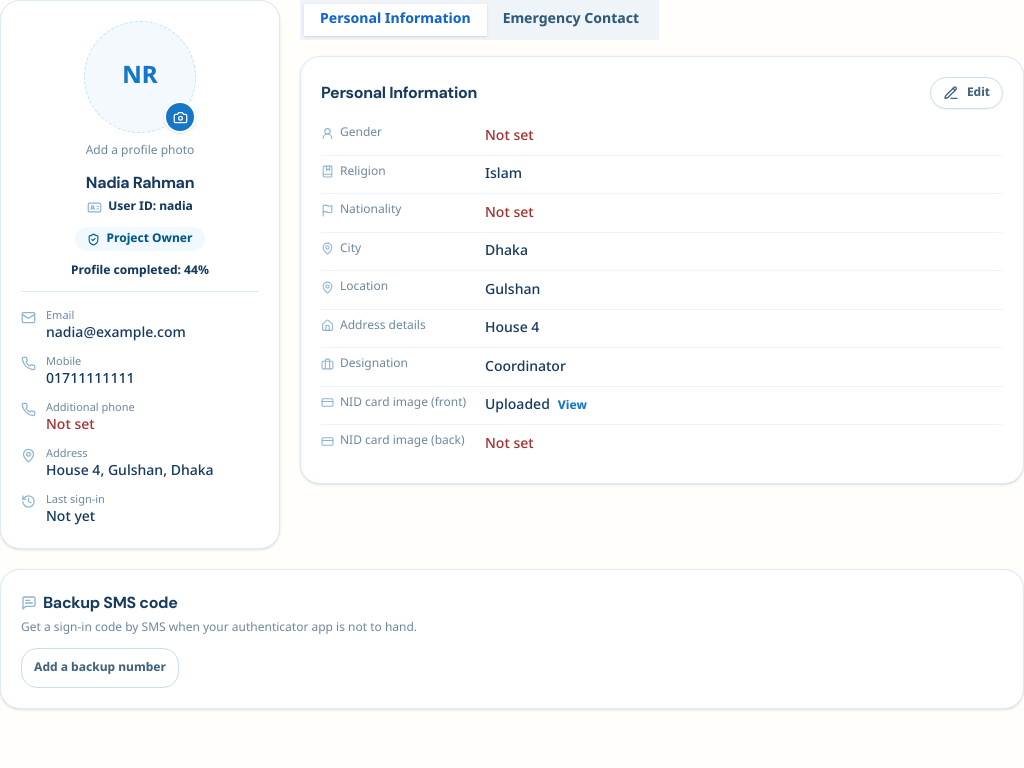
Scenario: an Admin's own profile › will not save a name shorter than two letters
Click the button "Edit" at (966, 93), box [930, 77, 1003, 109]
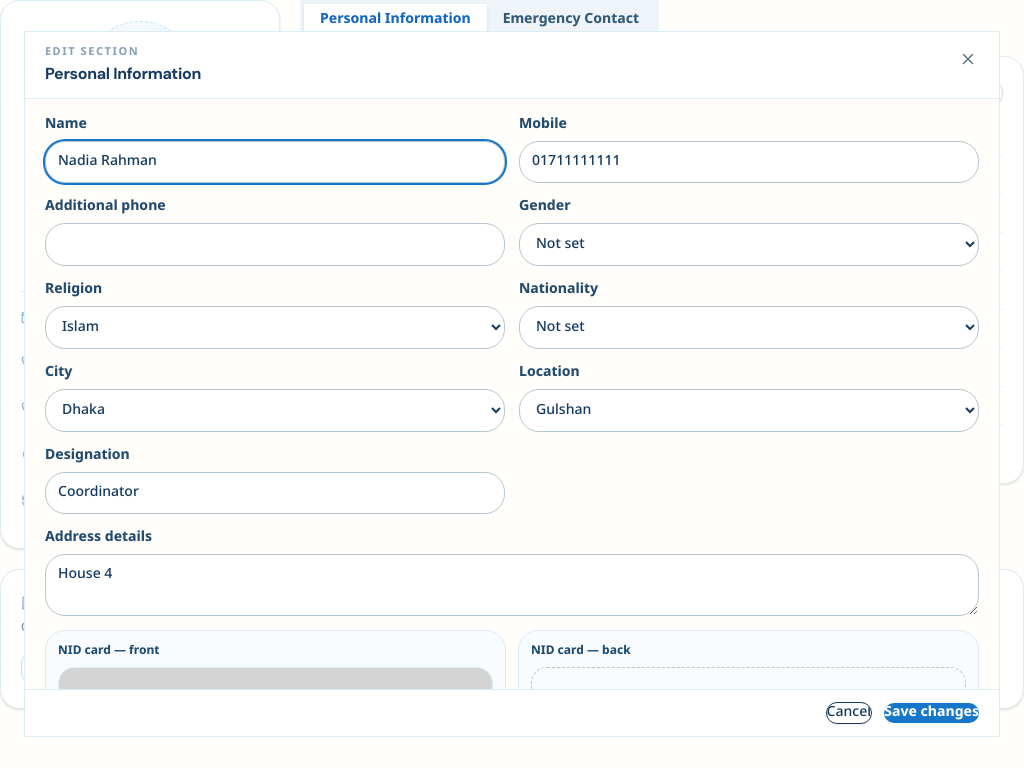
Replace the text in the field labelled "Name" with " N " at (275, 162), box [45, 141, 505, 183]
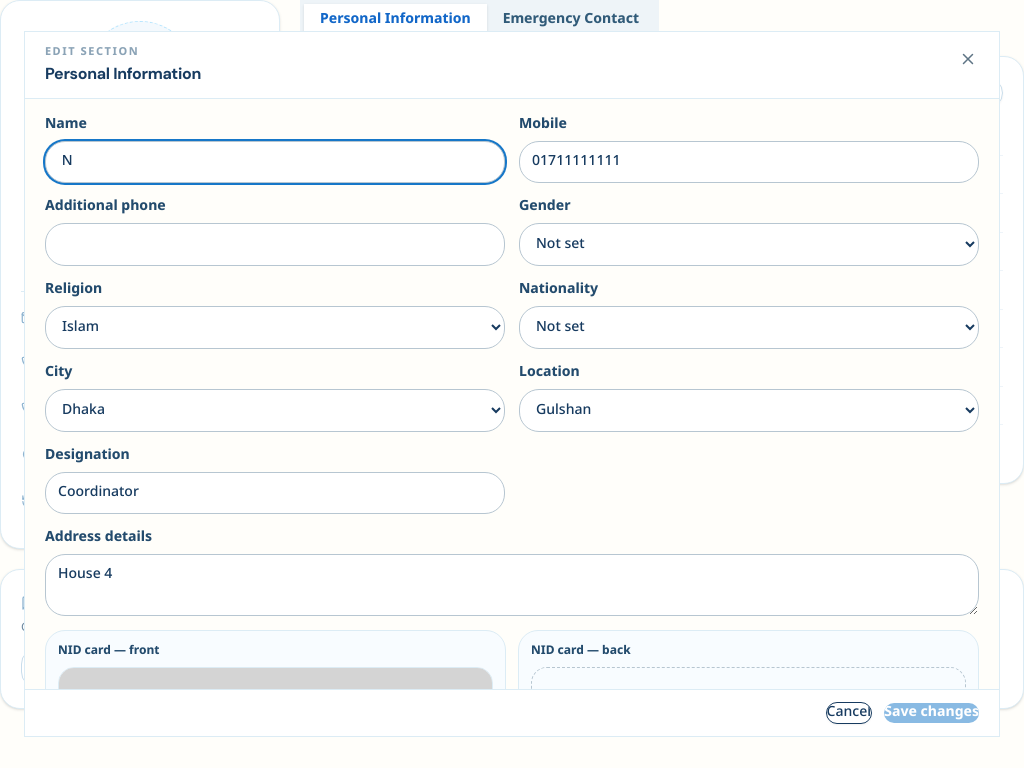
Expected: the button "Save changes" is disabled, [884, 703, 979, 723]
